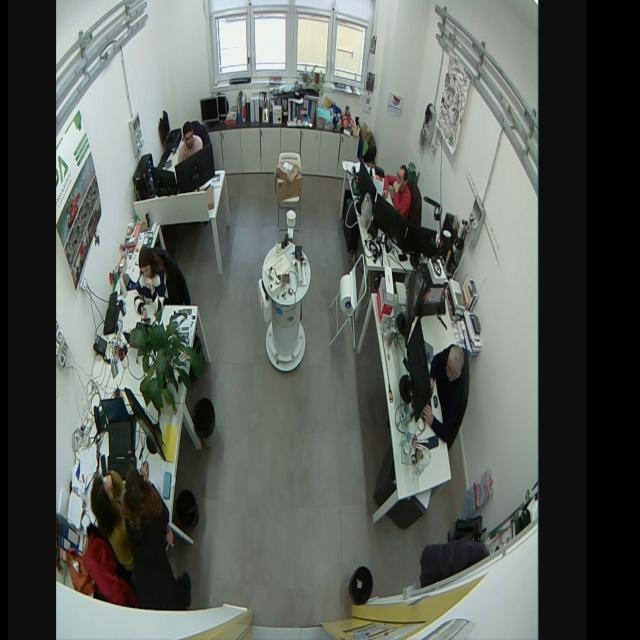Persona: (122, 464, 193, 611), (423, 340, 470, 443), (90, 468, 130, 576), (133, 241, 174, 332), (382, 158, 414, 220), (175, 119, 205, 167)
